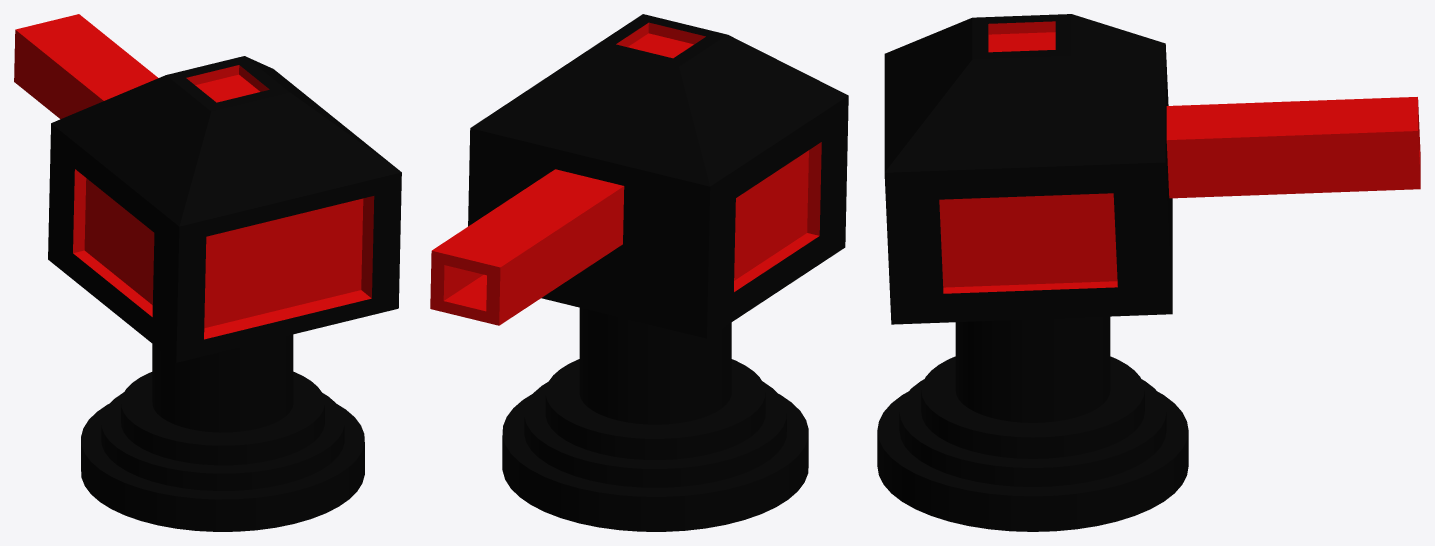
The model's file is simpleTestTurret.fbx.
3 views of the same model, side by side, from view 1: azimuth 30°, elevation 25°; view 2: azimuth 150°, elevation 25°; view 3: azimuth 270°, elevation 25° (orthographic). The views are drawn at different scales.
Parts seen in each view (by area): view 1: PartToRotate, Foot; view 2: PartToRotate, Foot; view 3: PartToRotate, Foot.
Boxes of the visible parts, x1=… form: PartToRotate: x1=14, y1=14, x2=401, y2=362; Foot: x1=81, y1=334, x2=364, y2=531; PartToRotate: x1=430, y1=14, x2=848, y2=338; Foot: x1=502, y1=307, x2=808, y2=531; PartToRotate: x1=884, y1=14, x2=1420, y2=324; Foot: x1=877, y1=316, x2=1188, y2=531.
Bounding box in the file's own units: 153 × 234 × 267.
